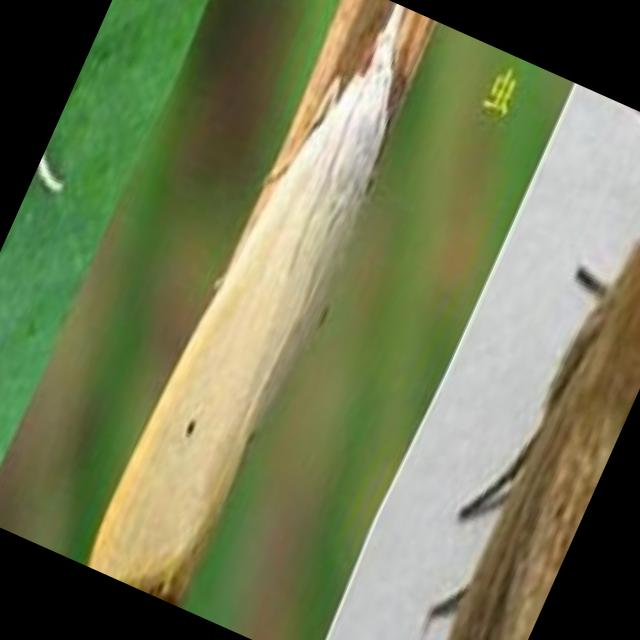stem-borer: (81, 0, 452, 613)
